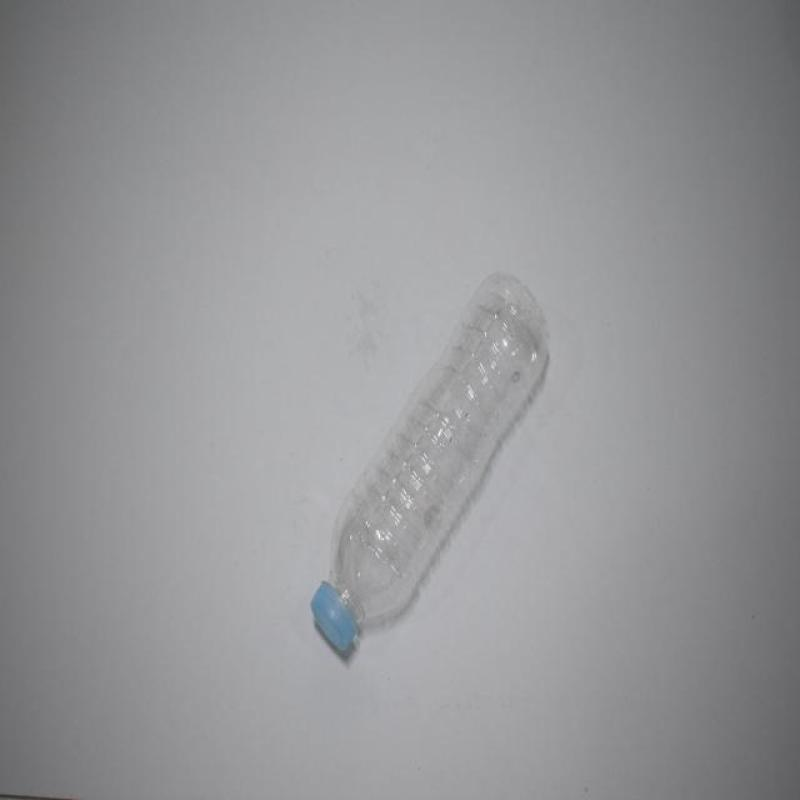botella: (308, 272, 552, 654)
